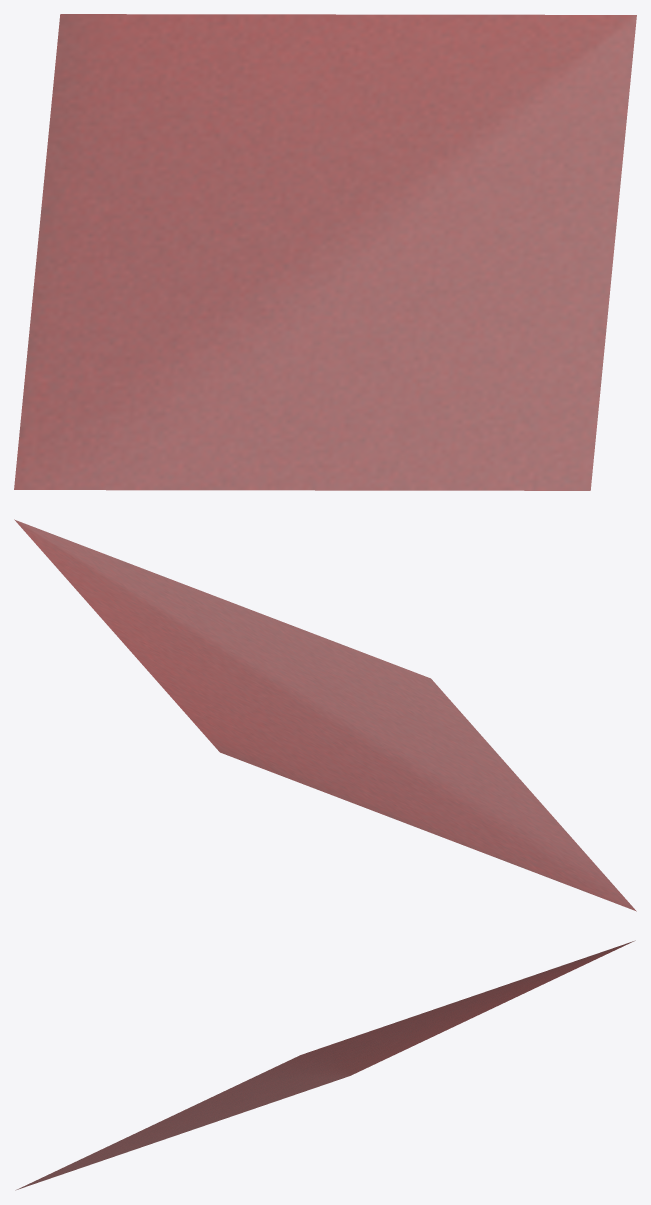
Rendered from icon_hibernate_white.glb.
3 views of the same model, one above another, from view 1: azimuth 30°, elevation 25°; view 2: azimuth 150°, elevation 25°; view 3: azimuth 270°, elevation 25° (orthographic). The views are drawn at different scales.
Visible parts, largest first — view 1: icon_hibernate_white; view 2: icon_hibernate_white; view 3: icon_hibernate_white.
Boxes of the visible parts, <box> form: icon_hibernate_white: <box>14,14,636,490</box>; icon_hibernate_white: <box>14,519,636,911</box>; icon_hibernate_white: <box>15,940,635,1190</box>.
Size of the model in its own units: 1.7 by 0.7285 by 1.72.
1 material, 1 textured.
